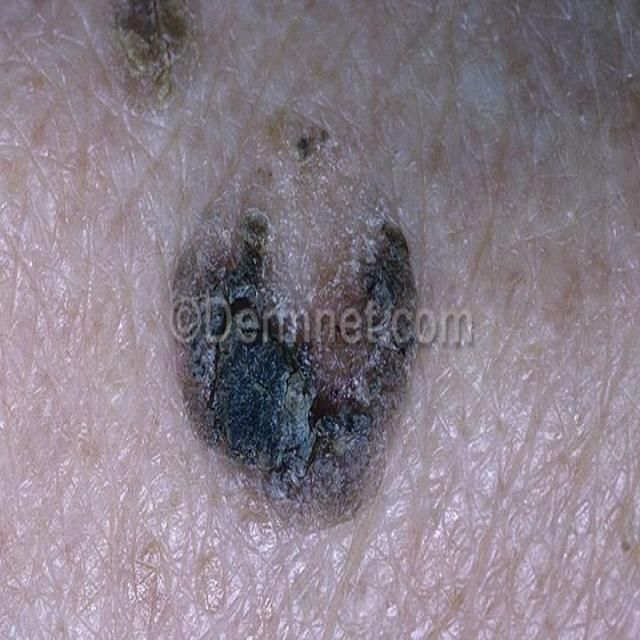Eczema: (157, 136, 432, 516)
